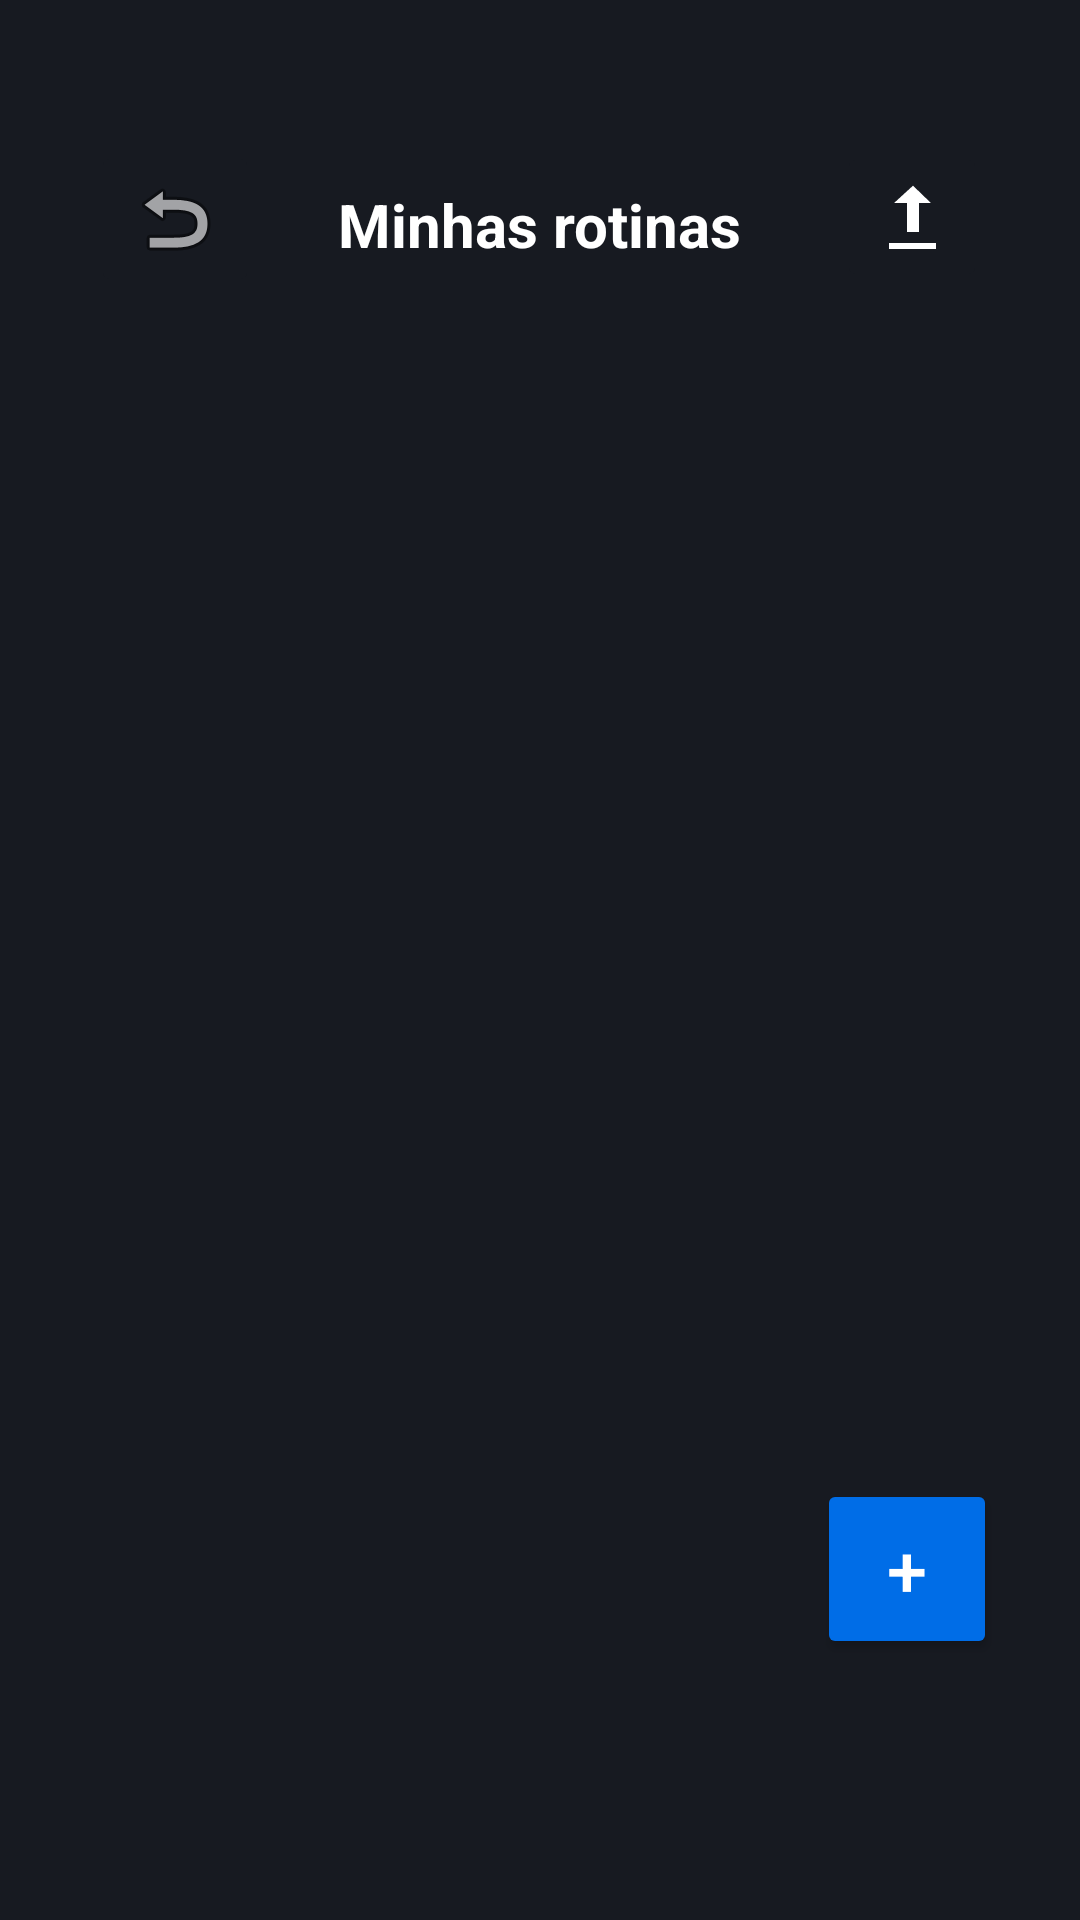

Icons on this 1080 x 1920 Android screen, each with its box as [left=x1, top=y1, right=x2, bottom=y2]:
Exportar Plano: [left=889, top=186, right=936, bottom=249]
Voltar: [left=145, top=191, right=208, bottom=248]
